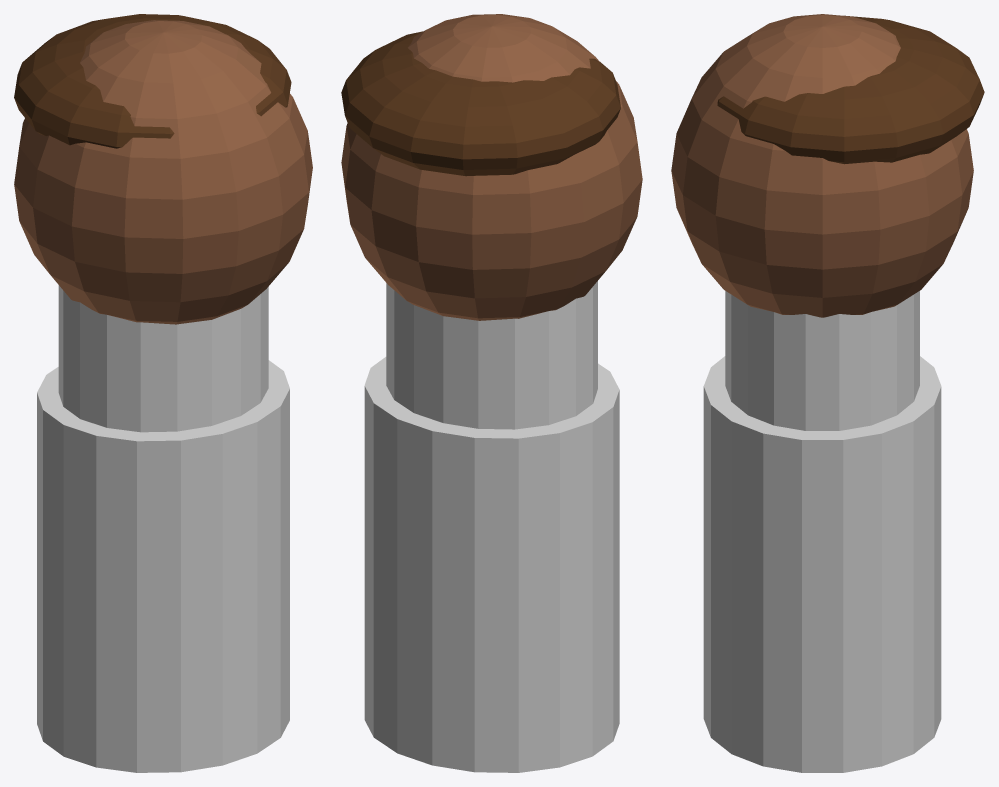
File: child.b29197f6.glb
3 views of the same model, side by side, from view 1: azimuth 30°, elevation 25°; view 2: azimuth 150°, elevation 25°; view 3: azimuth 270°, elevation 25° (orthographic).
Parts seen in each view (by area): view 1: accent, body; view 2: accent, body; view 3: accent, body.
Boxes of the visible parts, x1,y1,x2,y2 form: accent: (37, 285, 289, 772); body: (14, 14, 312, 324); accent: (364, 281, 619, 772); body: (341, 14, 642, 320); accent: (703, 291, 941, 772); body: (671, 14, 984, 317).
Bounding box in the file's own units: 0.28 × 0.707 × 0.29.
